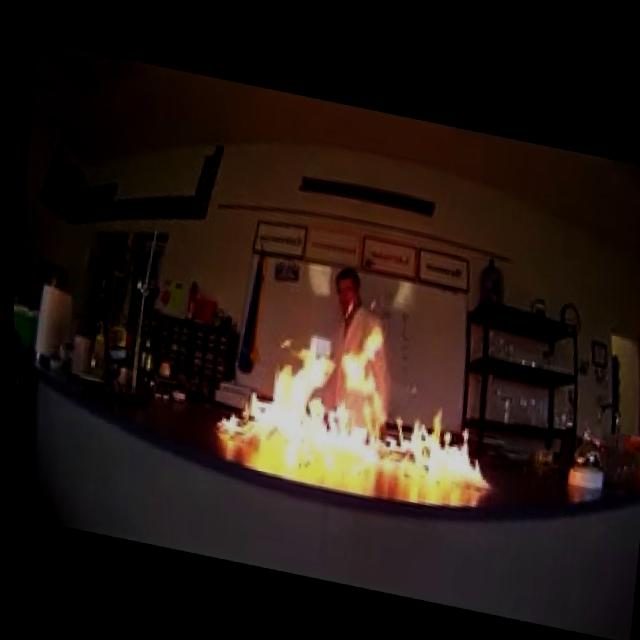Fire: (200, 284, 515, 490)
